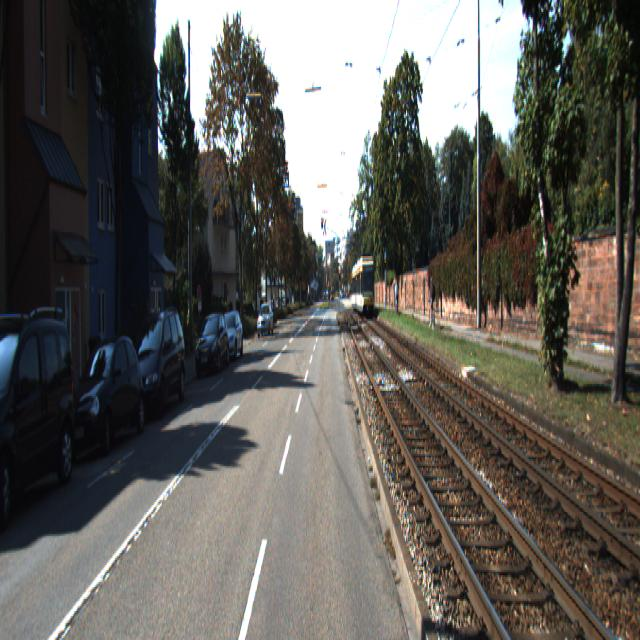Car: (0, 307, 81, 540), (64, 330, 148, 460), (123, 306, 188, 422), (194, 311, 229, 378), (351, 255, 375, 318), (216, 310, 244, 364), (257, 302, 274, 340)
